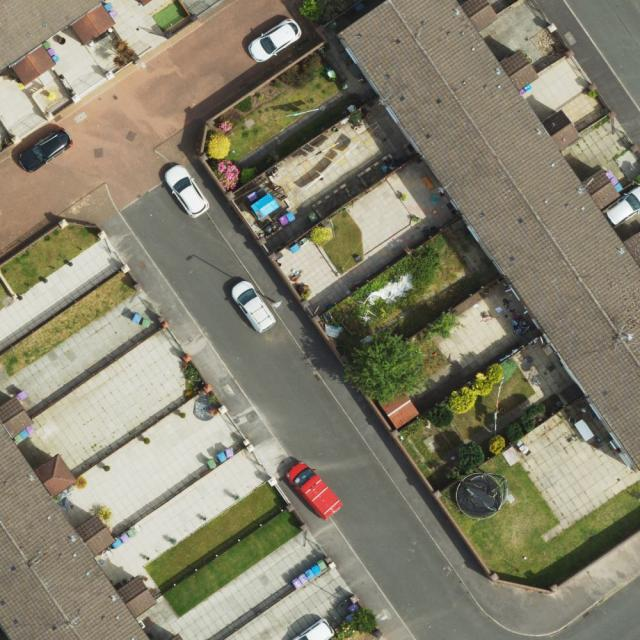roof: (335, 2, 640, 472), (0, 397, 157, 640), (0, 1, 113, 87)
